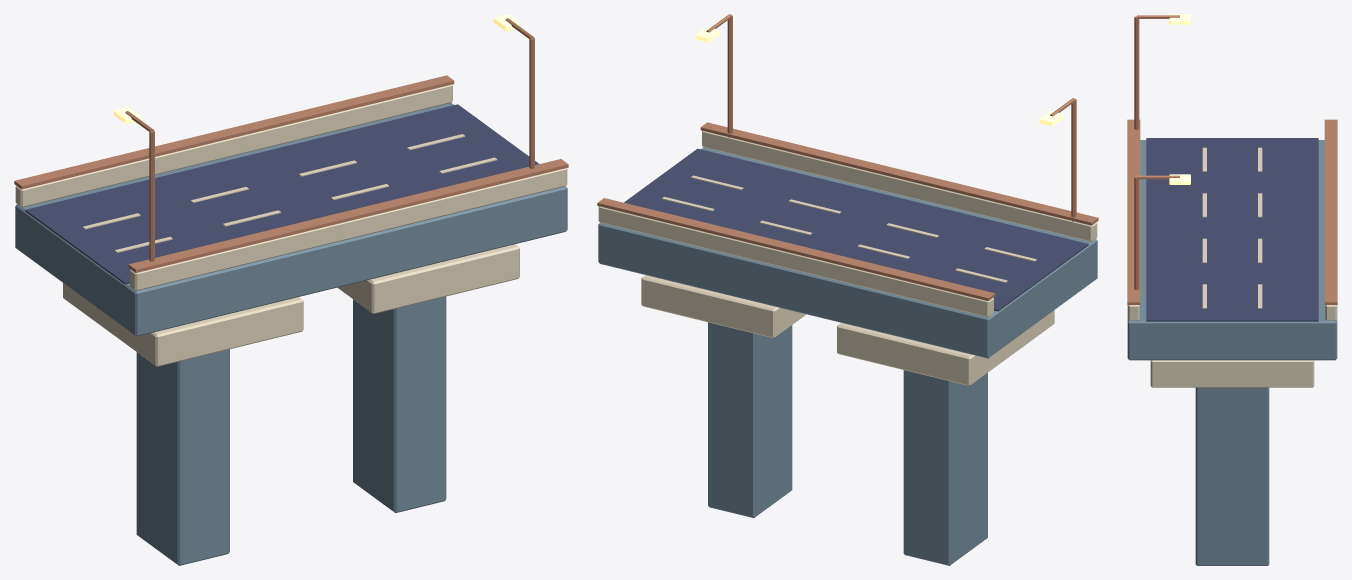
The model's file is sf3_freeway_14m.glb.
The picture shows the model from 3 angles, left to right: view 1: azimuth 30°, elevation 25°; view 2: azimuth 150°, elevation 25°; view 3: azimuth 270°, elevation 25°; orthographic projection. The views are drawn at different scales.
Parts seen in each view (by area): view 1: sf3_freeway_14m__sf3-dusty-blue, sf3_freeway_14m__sf3-midnight-indigo, sf3_freeway_14m__sf3-warm-ivory, sf3_freeway_14m__sf3-burnished-copper; view 2: sf3_freeway_14m__sf3-dusty-blue, sf3_freeway_14m__sf3-midnight-indigo, sf3_freeway_14m__sf3-warm-ivory, sf3_freeway_14m__sf3-burnished-copper; view 3: sf3_freeway_14m__sf3-midnight-indigo, sf3_freeway_14m__sf3-dusty-blue, sf3_freeway_14m__sf3-burnished-copper, sf3_freeway_14m__sf3-warm-ivory, sf3_freeway_14m__sf3-warm-window.
Boxes of the visible parts, x1,y1,x2,y2 form: sf3_freeway_14m__sf3-dusty-blue: (15,103,567,565); sf3_freeway_14m__sf3-midnight-indigo: (25,104,538,284); sf3_freeway_14m__sf3-warm-ivory: (15,84,567,366); sf3_freeway_14m__sf3-burnished-copper: (14,18,568,272); sf3_freeway_14m__sf3-dusty-blue: (598,147,1097,565); sf3_freeway_14m__sf3-midnight-indigo: (624,148,1088,311); sf3_freeway_14m__sf3-warm-ivory: (598,130,1097,385); sf3_freeway_14m__sf3-burnished-copper: (597,14,1098,300); sf3_freeway_14m__sf3-midnight-indigo: (1146,138,1318,321); sf3_freeway_14m__sf3-dusty-blue: (1127,140,1337,565); sf3_freeway_14m__sf3-burnished-copper: (1127,15,1337,304); sf3_freeway_14m__sf3-warm-ivory: (1128,147,1336,387); sf3_freeway_14m__sf3-warm-window: (1169,14,1190,184).
Bounding box in the file's own units: 14 × 14.76 × 6.82.
